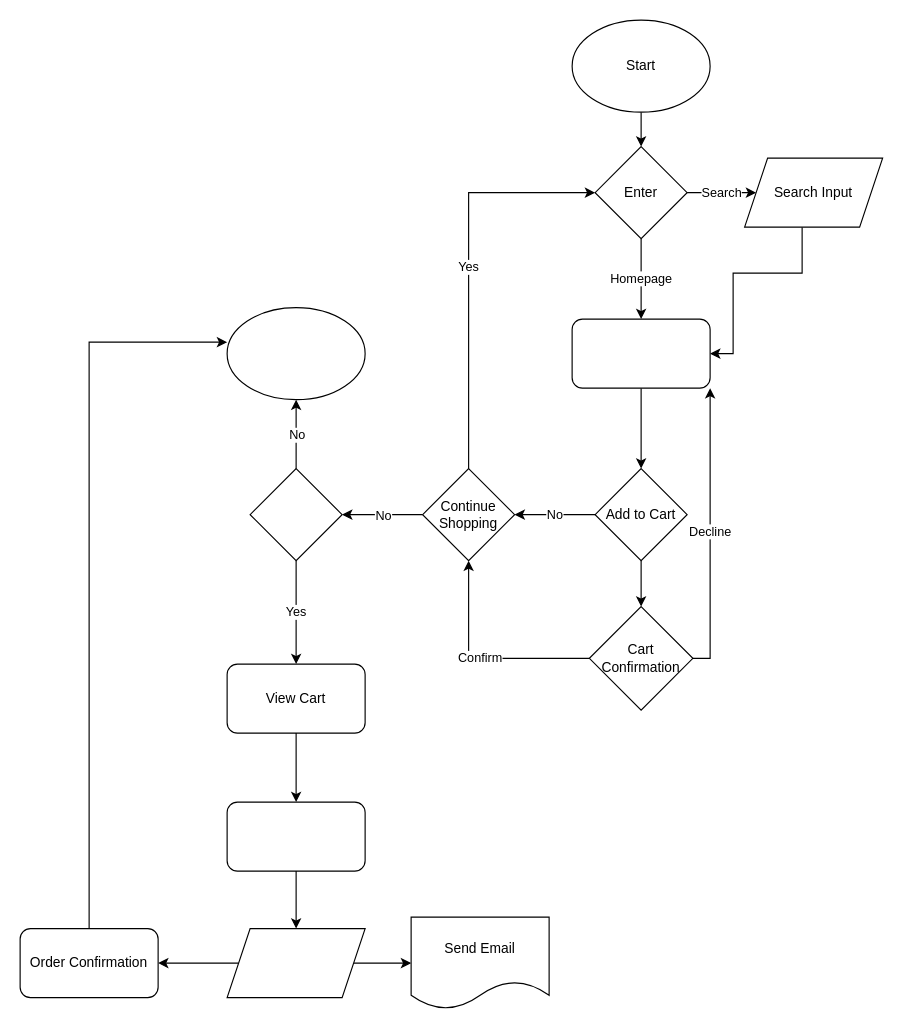
This 903x1029 diagram has some shape labels left out. The shapes that lost their labels are listed below. From the top down, each one's centre as x and y in pixels, then its label:
At (x=295, y=353): "Leave".
At (x=640, y=353): "View Product".
At (x=295, y=514): "Checkout".
At (x=295, y=836): "View Payment".
At (x=295, y=962): "Payment Input".
